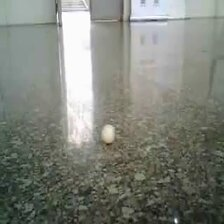w: (100, 124, 117, 145)
